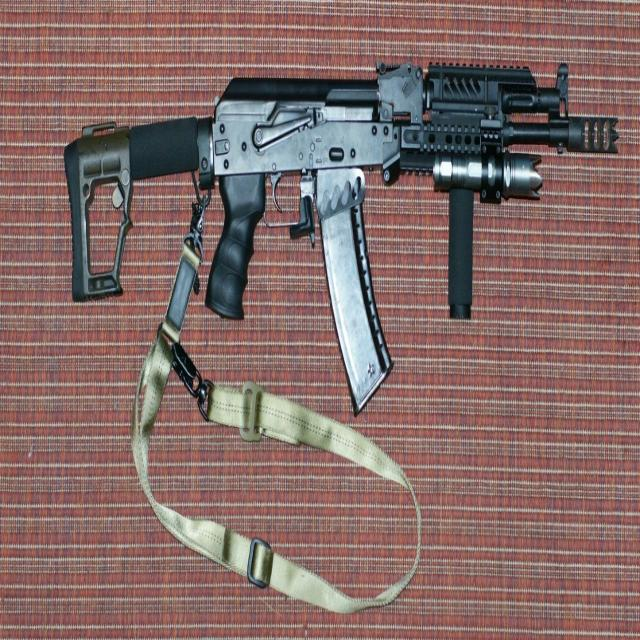firearm: (64, 60, 618, 412)
